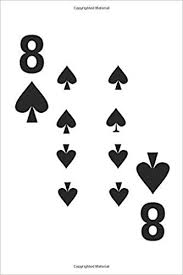eight of spades: (7, 19, 177, 254)
